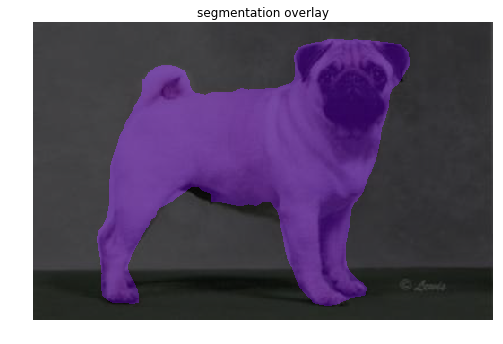unlabelled: (40, 27, 489, 316)
